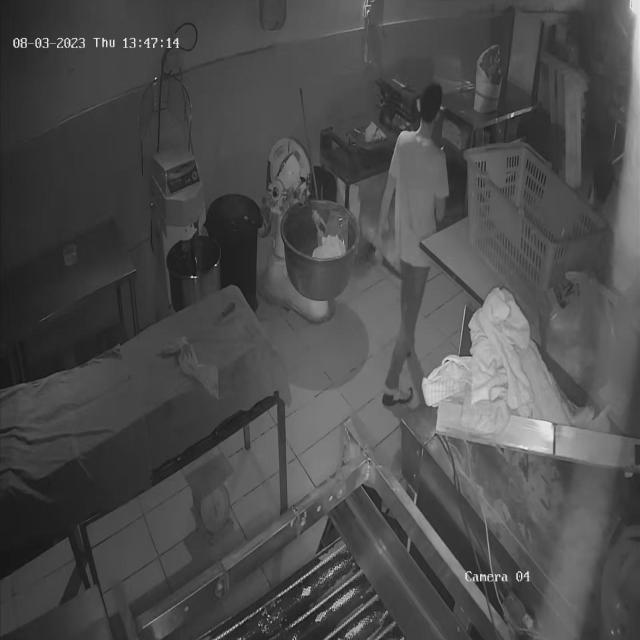Knife: (364, 246, 411, 282)
